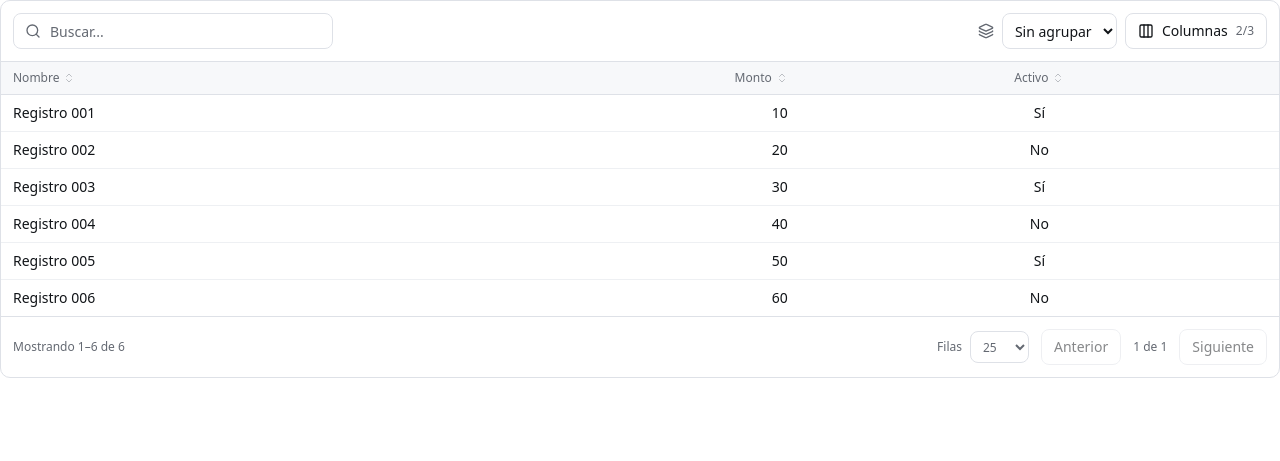
Test: agrupaciones › pliega un grupo sin ocultar los demás
Select "Activo" in the dropdown named "Agrupar por" at (1059, 31), box [1002,13,1117,49]
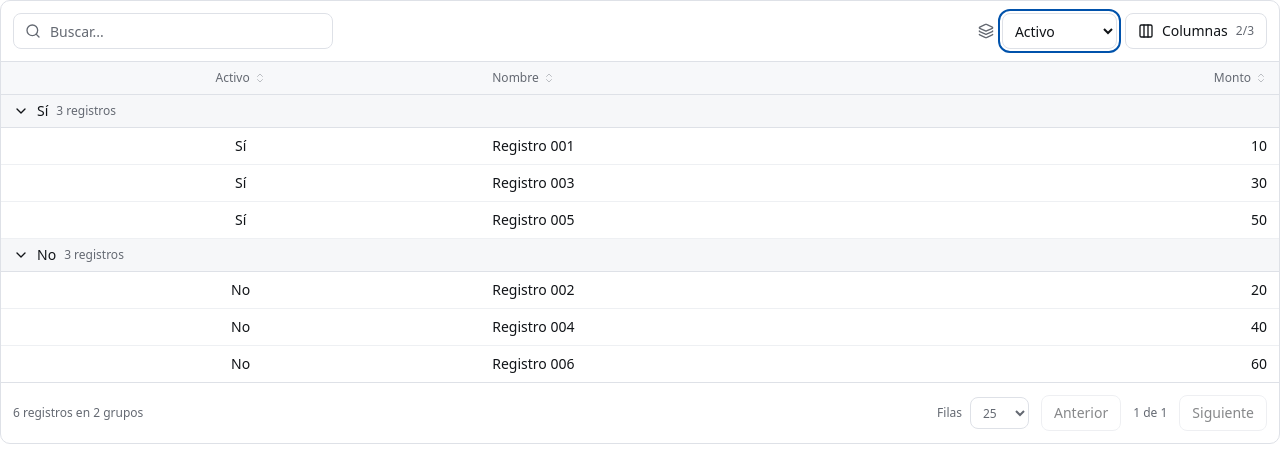
Click the button with aria-label "Grupo Sí" at (65, 111), box [13,101,116,121]
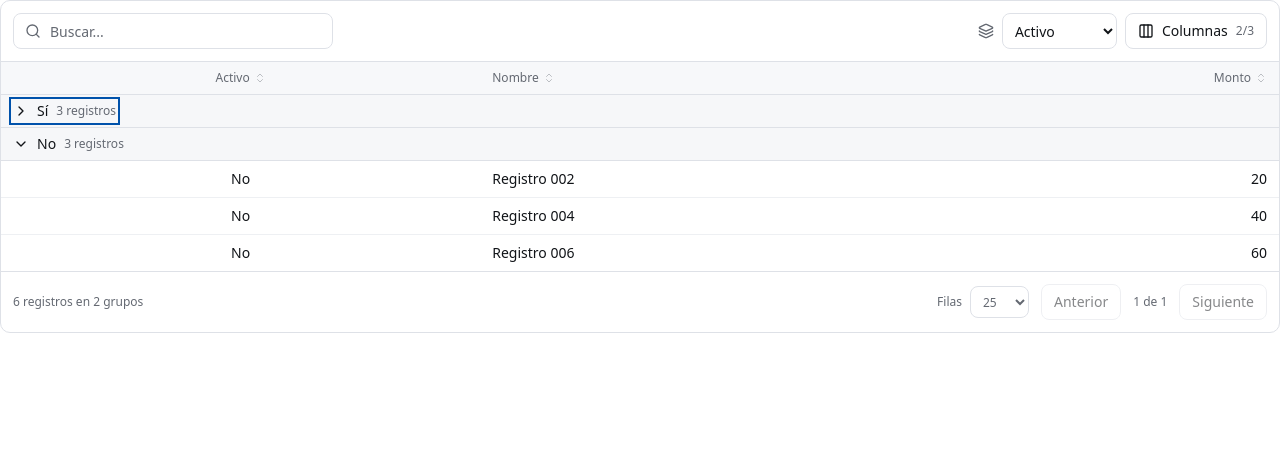
Expected: the text "Registro 002" is shown, [480,160,960,198]
Result: the button with aria-label "Grupo Sí" is collapsed at [13,101,116,121]
Result: the text "Registro 001" is gone
